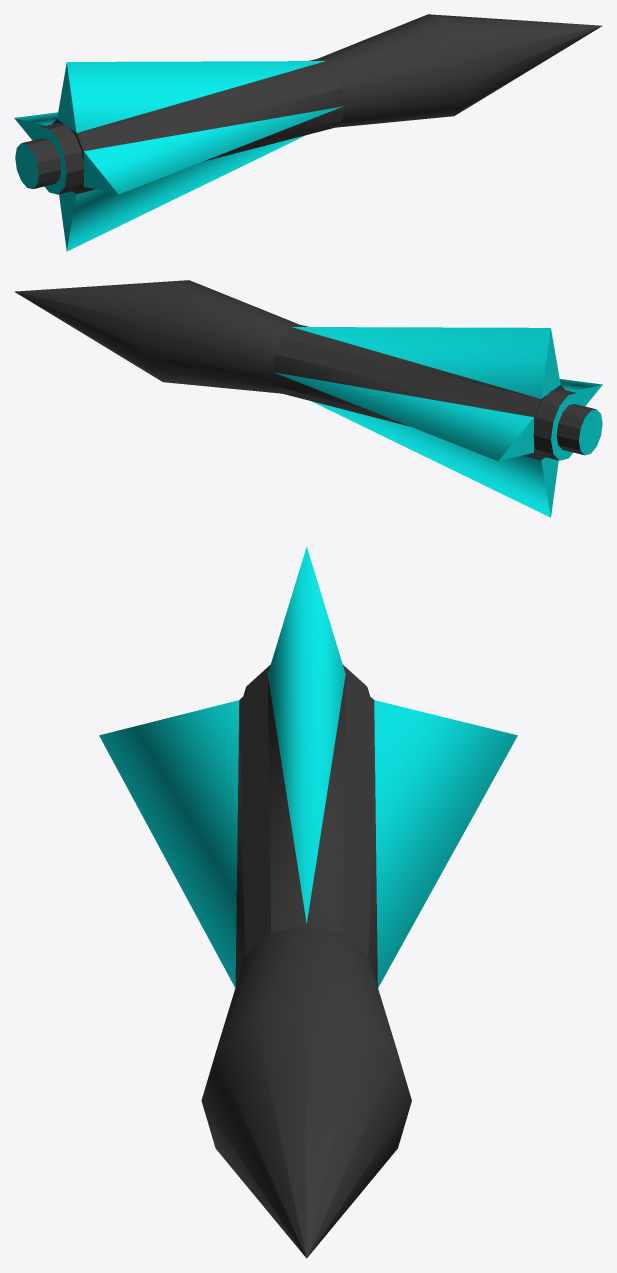
The model's file is Rocket.fbx.
3 renders of one model, top to bottom at view 1: azimuth 30°, elevation 25°; view 2: azimuth 150°, elevation 25°; view 3: azimuth 270°, elevation 25°, orthographic. The views are drawn at different scales.
Visible parts, largest first — view 1: rocket; view 2: rocket; view 3: rocket.
Part boxes in pixels (bbox=[...]): rocket: bbox=[14, 14, 602, 251]; rocket: bbox=[14, 280, 602, 517]; rocket: bbox=[99, 547, 517, 1258].
Bounding box in the file's own units: 7.54 × 2.37 × 2.37.
